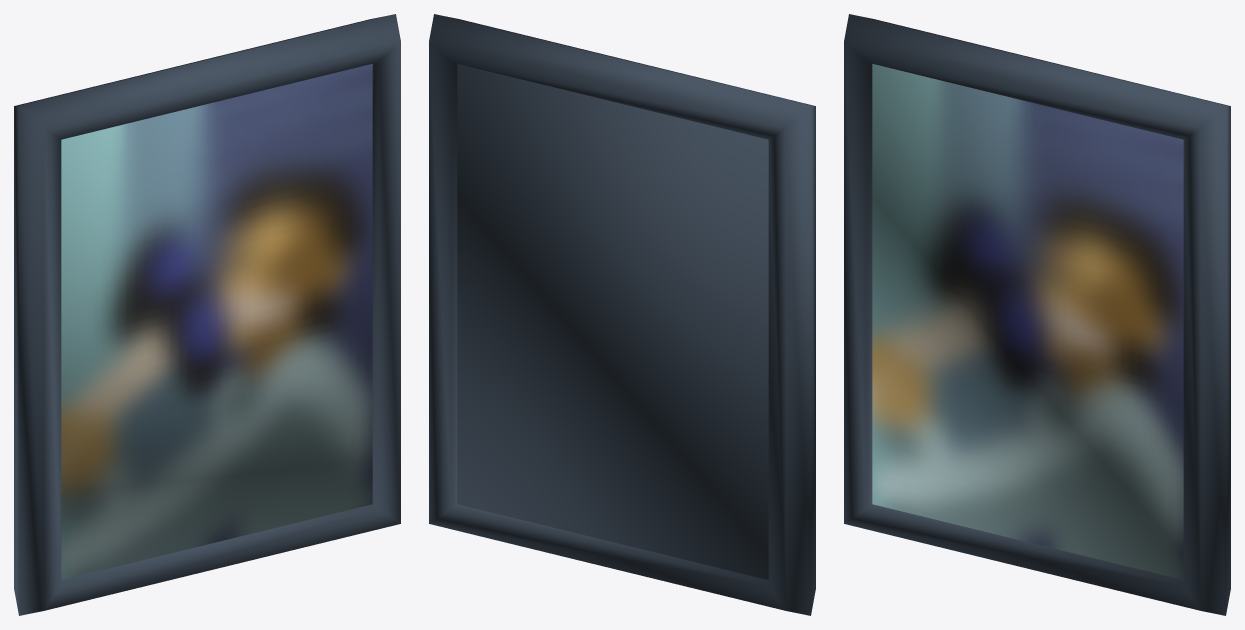
The model's file is PictureAmericanPsycho_everywhere_v1.fbx.
3 renders of one model, left to right at view 1: azimuth 30°, elevation 25°; view 2: azimuth 150°, elevation 25°; view 3: azimuth 330°, elevation 25°, orthographic.
Visible parts, largest first — view 1: Cube.001, Cube; view 2: Cube.001, Cube; view 3: Cube.001, Cube.
Boxes of the visible parts, bbox=[...] form: Cube.001: bbox=[61, 64, 372, 579]; Cube: bbox=[14, 14, 400, 615]; Cube.001: bbox=[457, 64, 768, 579]; Cube: bbox=[429, 14, 815, 615]; Cube.001: bbox=[872, 64, 1183, 579]; Cube: bbox=[844, 14, 1230, 615].
Bounding box in the file's own units: 64.4 × 83.27 × 8.83.
